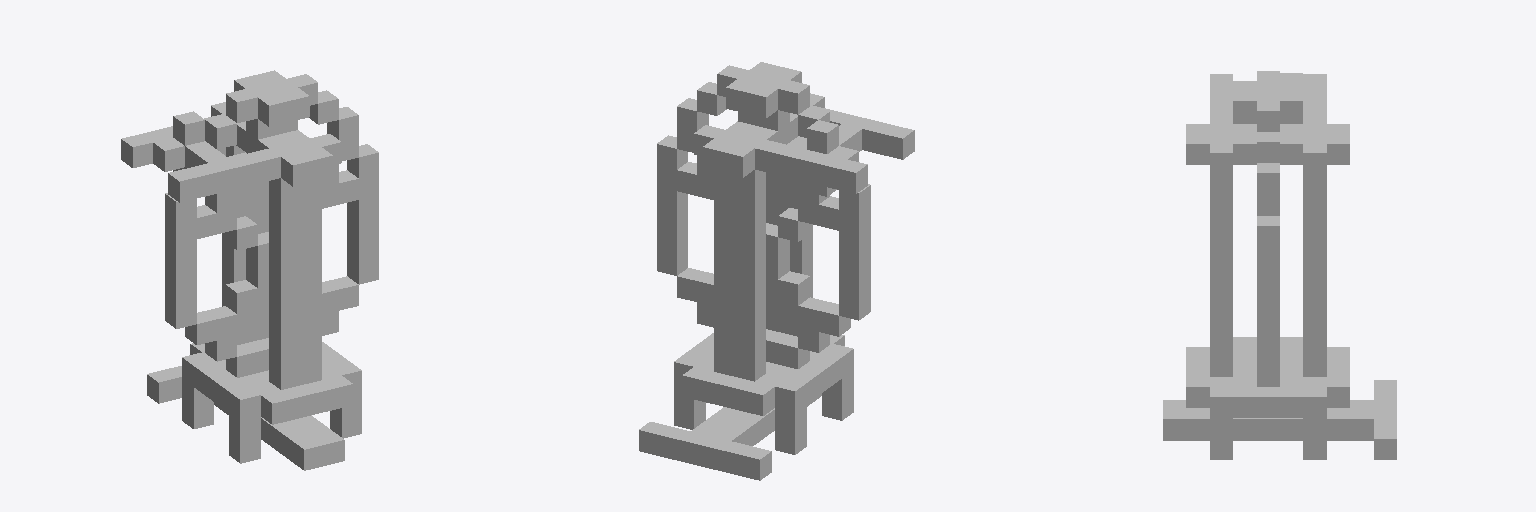
File: clothing_spinning_machine.obj
3 views of the same model, side by side, from view 1: azimuth 30°, elevation 25°; view 2: azimuth 150°, elevation 25°; view 3: azimuth 270°, elevation 25° (orthographic).
Visible parts, largest first — view 1: node_0_0_0, node_0_0_0.001; view 2: node_0_0_0, node_0_0_0.001; view 3: node_0_0_0.
Boxes of the visible parts, <box> form: node_0_0_0: <box>121,70,378,470</box>; node_0_0_0.001: <box>206,184,338,339</box>; node_0_0_0: <box>639,62,914,480</box>; node_0_0_0.001: <box>697,175,829,331</box>; node_0_0_0: <box>1163,71,1396,459</box>.
Size of the model in its own units: 0.6875 by 1 by 0.625.